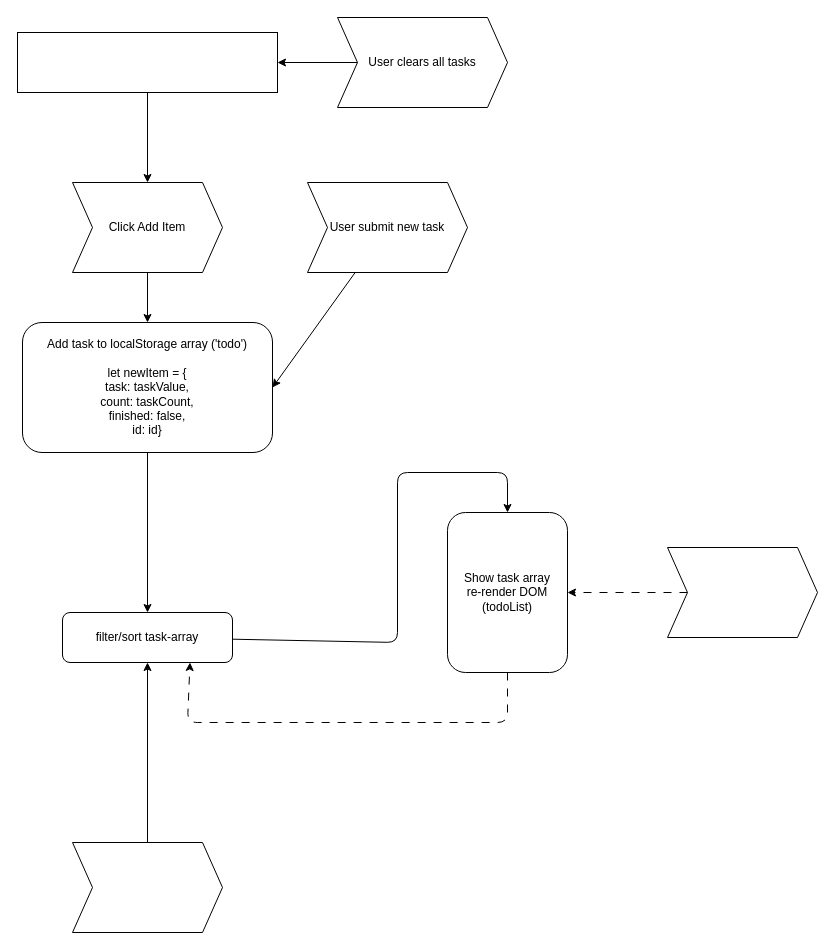
Image size: 835x950. Some labels were removed from this diagram. Here are the shapes that lost their labels. From the top down, the box of each, then its label:
(16, 32, 278, 92): JSON.parse(localStorage.getItem('todo)
(666, 546, 818, 638): User delete task
(72, 842, 222, 932): User mark task as complete
